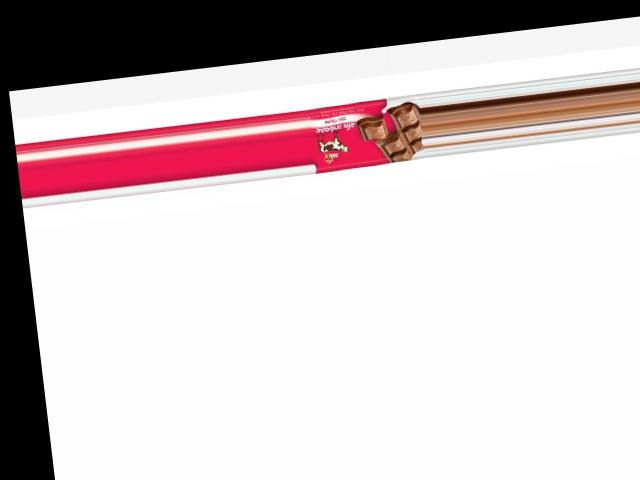chocolate: (306, 94, 425, 171)
